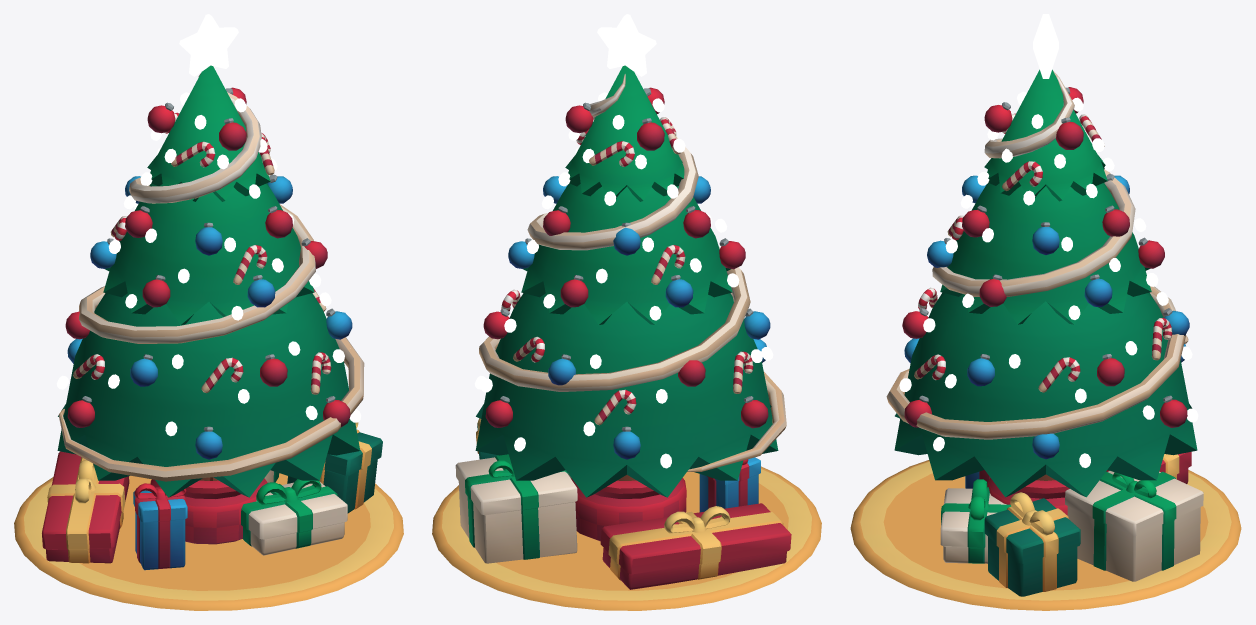
File: christmas_tree_decorated.gltf
3 renders of one model, left to right at view 1: azimuth 30°, elevation 25°; view 2: azimuth 150°, elevation 25°; view 3: azimuth 270°, elevation 25°, orthographic.
Visible parts, largest first — view 1: christmas_tree_decorated; view 2: christmas_tree_decorated; view 3: christmas_tree_decorated.
Boxes of the visible parts, <box> form: christmas_tree_decorated: <box>14,14,403,610</box>; christmas_tree_decorated: <box>432,14,821,610</box>; christmas_tree_decorated: <box>850,14,1241,610</box>.
Size of the model in its own units: 2.92 by 4.23 by 2.92.
Materials: 2 (2 with a texture image).
